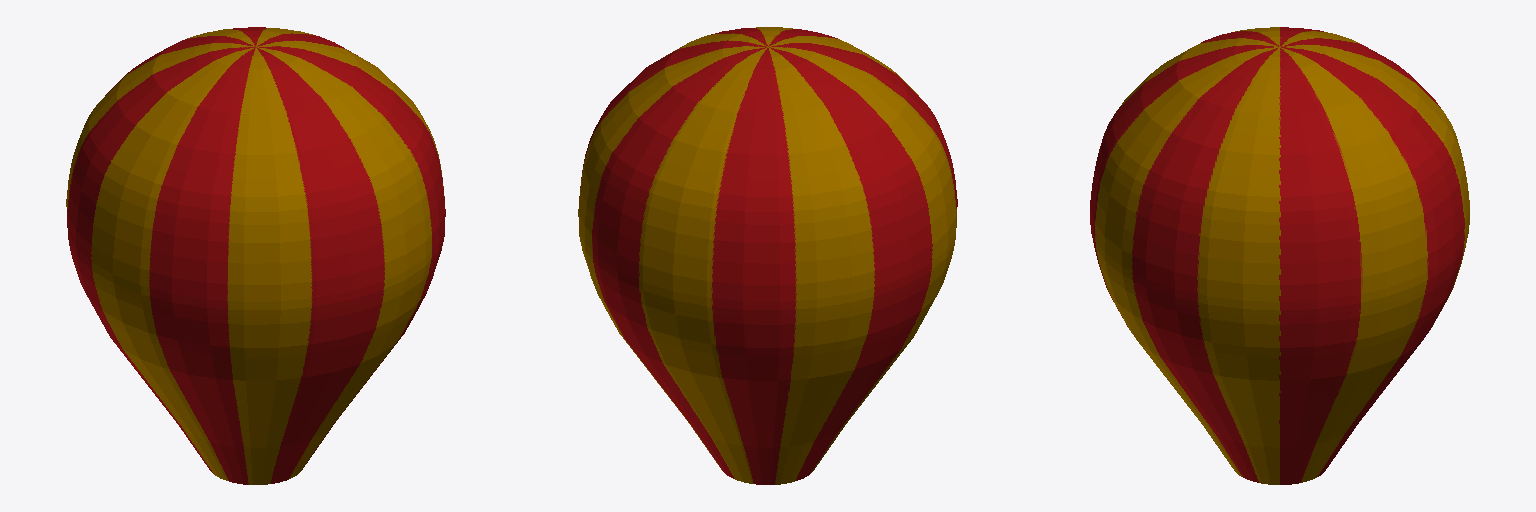
3 renders of one model, left to right at view 1: azimuth 30°, elevation 25°; view 2: azimuth 150°, elevation 25°; view 3: azimuth 270°, elevation 25°, orthographic.
Visible parts, largest first — view 1: Circle; view 2: Circle; view 3: Circle.
Boxes of the visible parts, x1,y1,x2,y2 form: Circle: [66, 27, 445, 484]; Circle: [578, 27, 957, 484]; Circle: [1090, 27, 1469, 484].
Bounding box in the file's own units: 2.98 × 3.62 × 2.98.
1 materials, 1 textured.